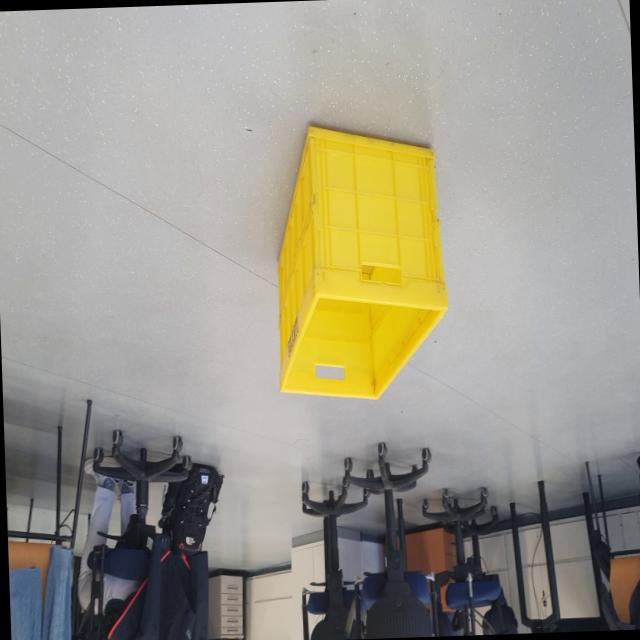box: (270, 95, 456, 422)
